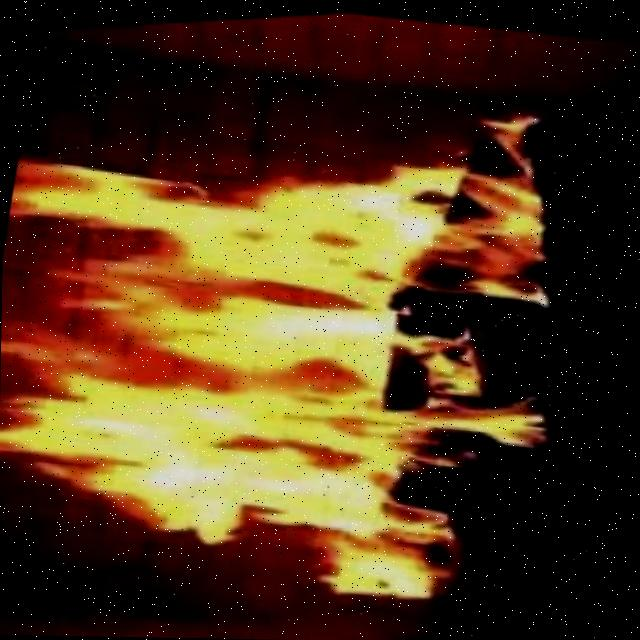fire: (0, 126, 479, 613)
